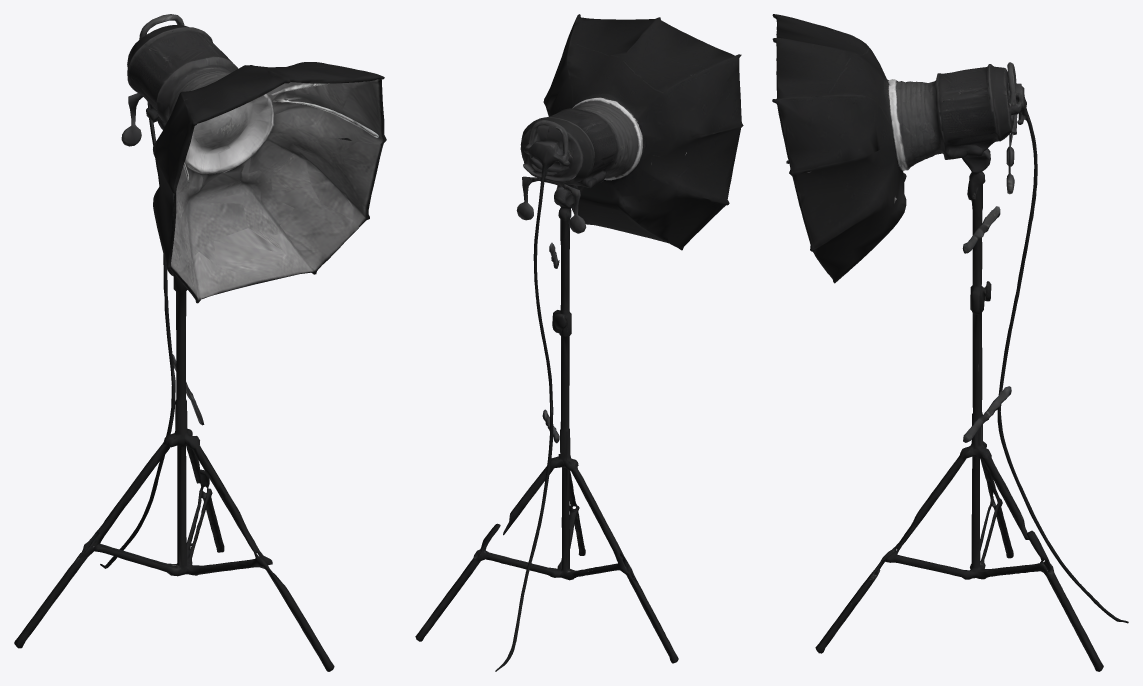
File: Light.glb
3 views of the same model, side by side, from view 1: azimuth 30°, elevation 25°; view 2: azimuth 150°, elevation 25°; view 3: azimuth 270°, elevation 25° (orthographic). The views are drawn at different scales.
Parts seen in each view (by area): view 1: Light; view 2: Light; view 3: Light.
Part boxes in pixels (<box>): Light: <box>14,14,386,671</box>; Light: <box>415,14,743,671</box>; Light: <box>772,14,1128,671</box>.
Bounding box in the file's own units: 0.1292 × 0.3001 × 0.1656.
1 material, 1 textured.
